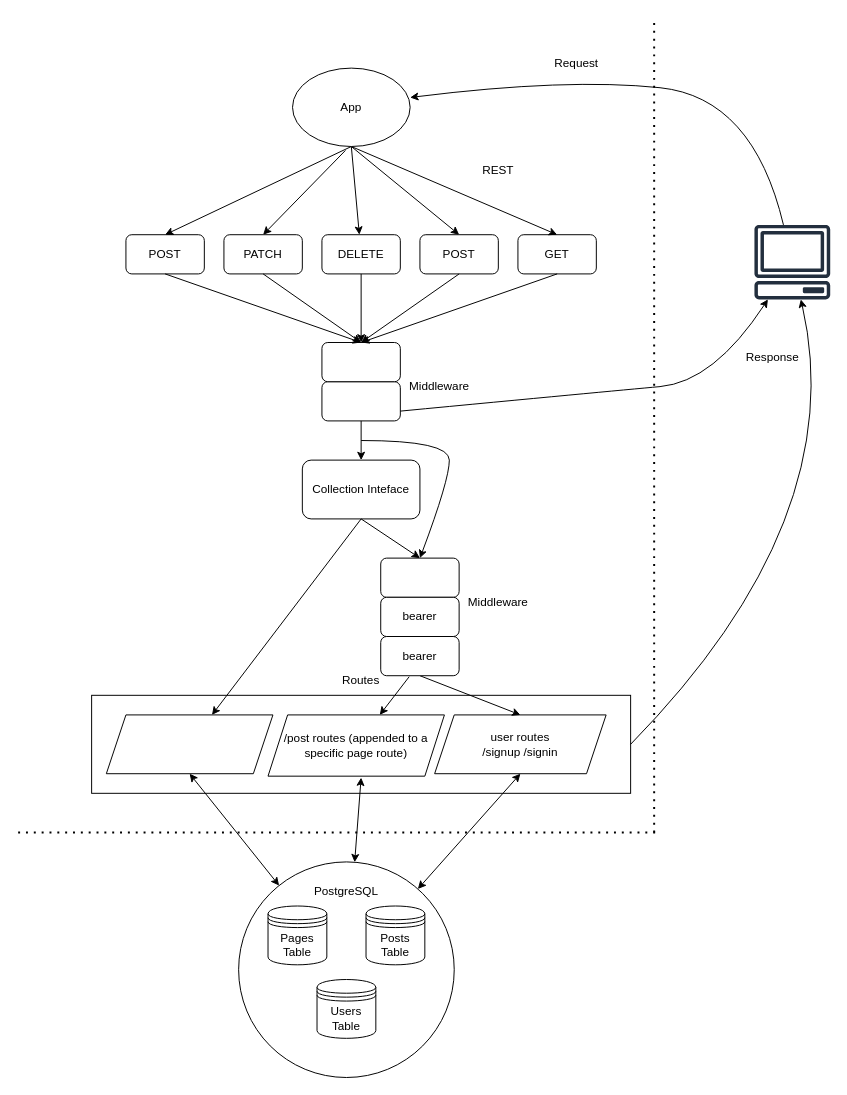
Image size: 847x1095. Some labels were removed from this diagram. Here are the shapes that lost their labels. From the top down, the centre of each, then its label:
the point at 792,261: Client
the point at 360,362: logger
the point at 360,401: error-handler 404 500
the point at 419,577: basic
the point at 189,744: /page routes
